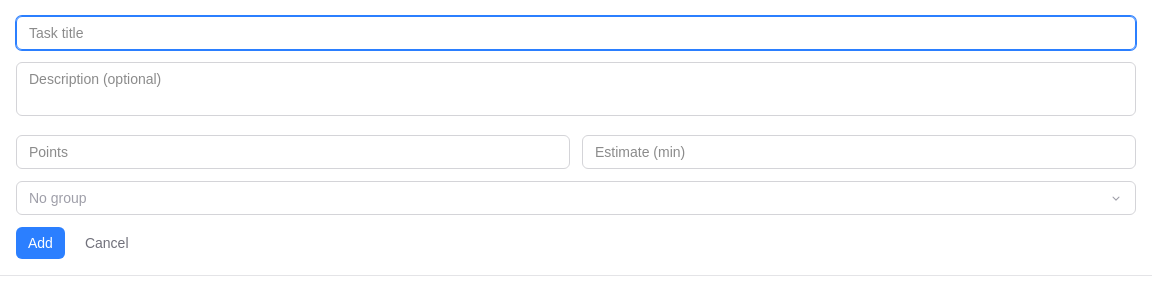
Test: AddTaskForm › form reset after submission › clears the points field after a successful submission
The width and height of the screenshot is (1152, 293).
Type "Task" into the field with placeholder "Task title". click: (576, 33)
box: [16,16,1136,50]
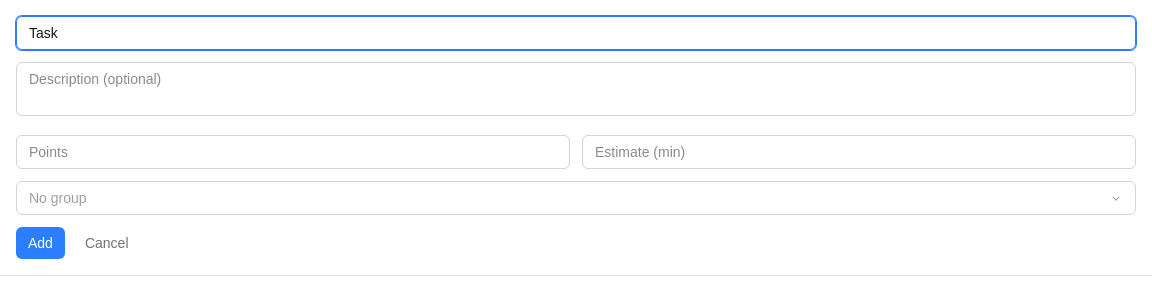
Type "3" into the number field with placeholder "Points". click: (293, 152)
box: [16,135,570,169]
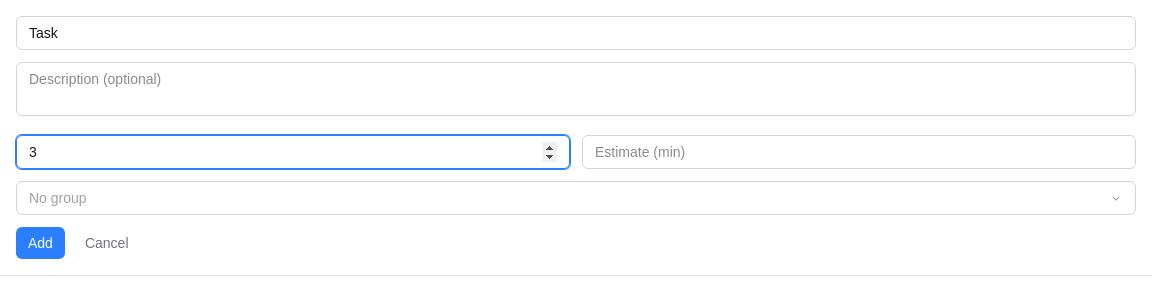
Click the button "Add". click: (40, 243)
box: [16,227,65,259]
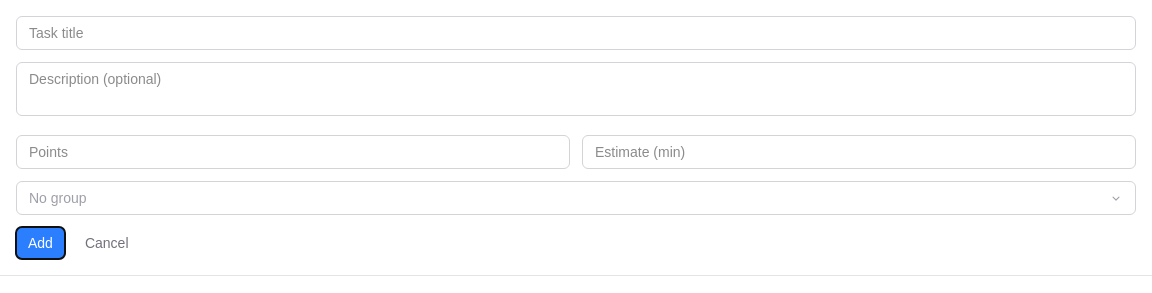
Expected: the number field with placeholder "Points" is not empty, [16,135,570,169]
